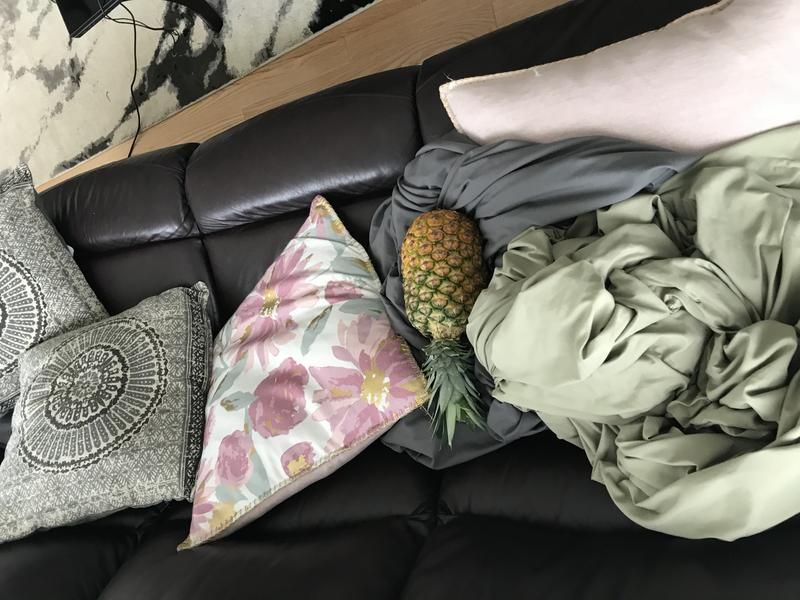pineapple: (396, 197, 500, 453)
